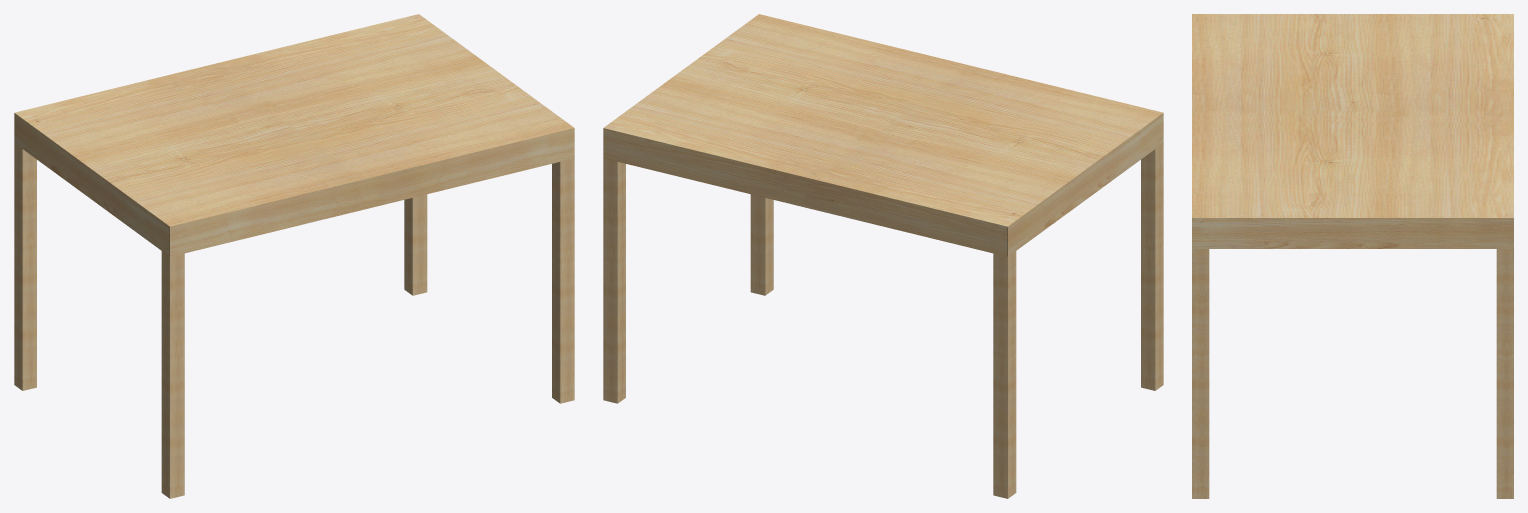
File: Table.FBX
3 renders of one model, left to right at view 1: azimuth 30°, elevation 25°; view 2: azimuth 150°, elevation 25°; view 3: azimuth 270°, elevation 25°, orthographic. The views are drawn at different scales.
Visible parts, largest first — view 1: Box001, Box005, Box004, Box002, Box003; view 2: Box001, Box002, Box003, Box005, Box004; view 3: Box001, Box004, Box003.
Boxes of the visible parts, x1=… form: Box001: x1=14, y1=14, x2=574, y2=256; Box005: x1=161, y1=251, x2=184, y2=498; Box004: x1=552, y1=158, x2=574, y2=403; Box002: x1=14, y1=143, x2=36, y2=390; Box003: x1=404, y1=194, x2=427, y2=295; Box001: x1=603, y1=14, x2=1163, y2=256; Box002: x1=993, y1=251, x2=1016, y2=498; Box003: x1=603, y1=158, x2=625, y2=403; Box005: x1=1141, y1=143, x2=1163, y2=390; Box004: x1=750, y1=194, x2=773, y2=295; Box001: x1=1192, y1=14, x2=1513, y2=248; Box004: x1=1192, y1=249, x2=1209, y2=498; Box003: x1=1496, y1=249, x2=1513, y2=498.
Size of the model in its own units: 70 by 45 by 46.68.
1 material, 1 textured.
